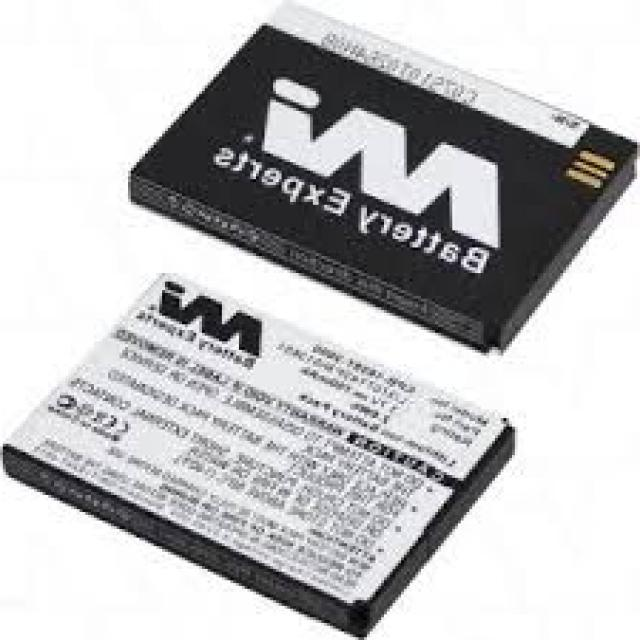battery: (0, 268, 519, 640), (131, 2, 640, 356)
